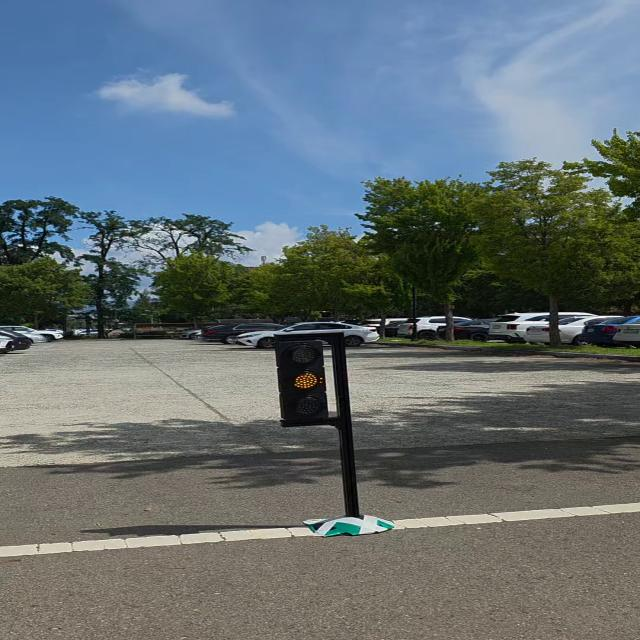yellow: (271, 332, 338, 428)
